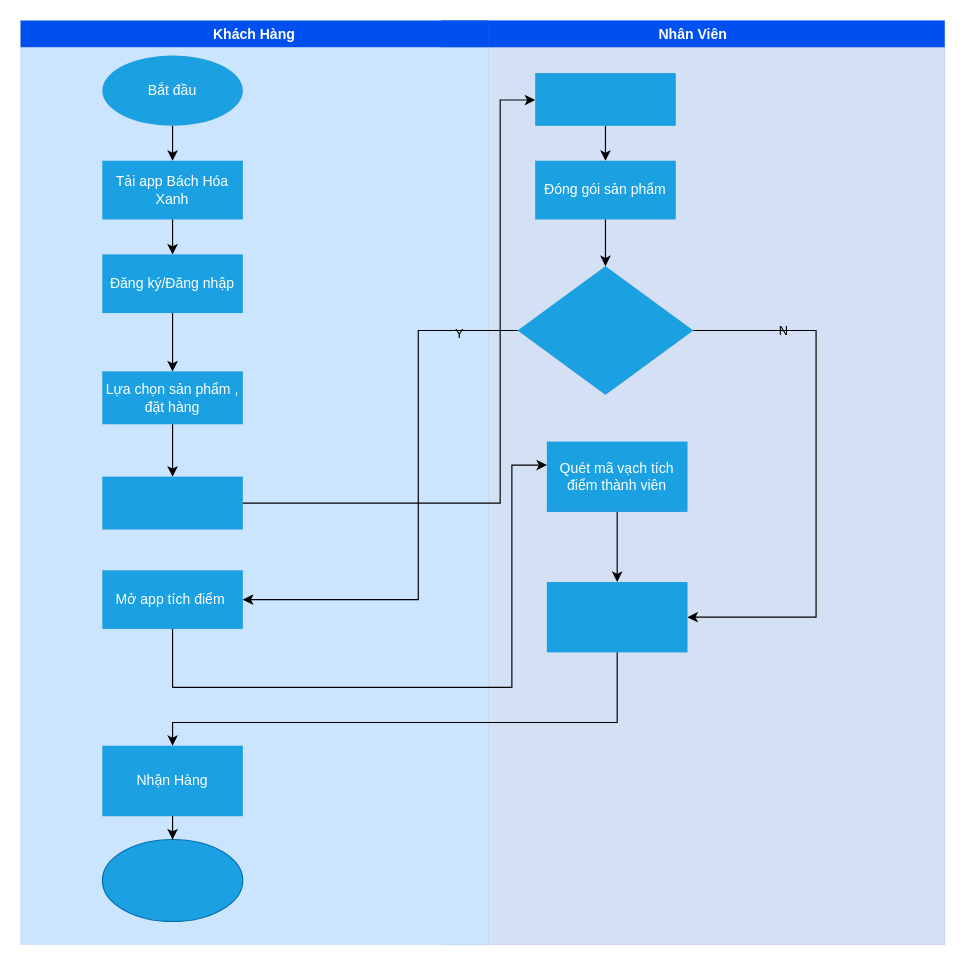
Image size: 964x964. Some labels were removed from this diagram. The shapes that lost their labels are listed below. From the top down, each one's centre as x and y in pixels, then its label:
At point 605,99: "Kiểm tra đơn hàng".
At point 605,330: "Yêu cầu tích điểm thành viên".
At point 172,502: "Thanh toán".
At point 616,616: "In Hóa Đơn".
At point 172,879: "Kết thúc".
